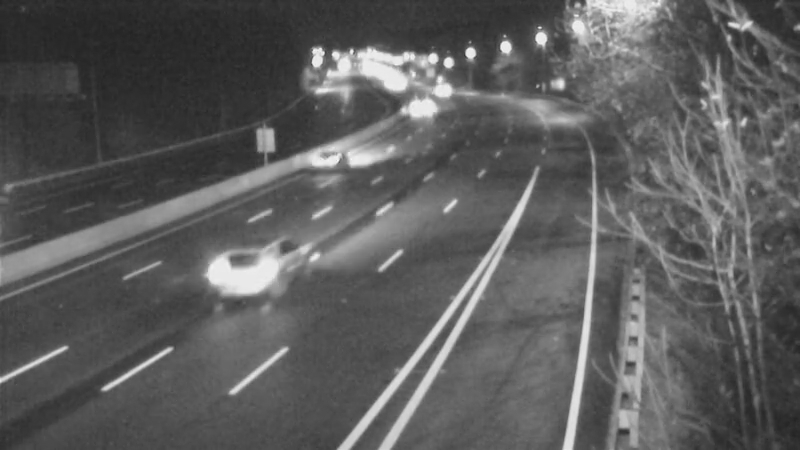vehicle: (284, 119, 364, 199), (212, 228, 292, 308), (417, 63, 467, 113), (395, 80, 445, 130)
